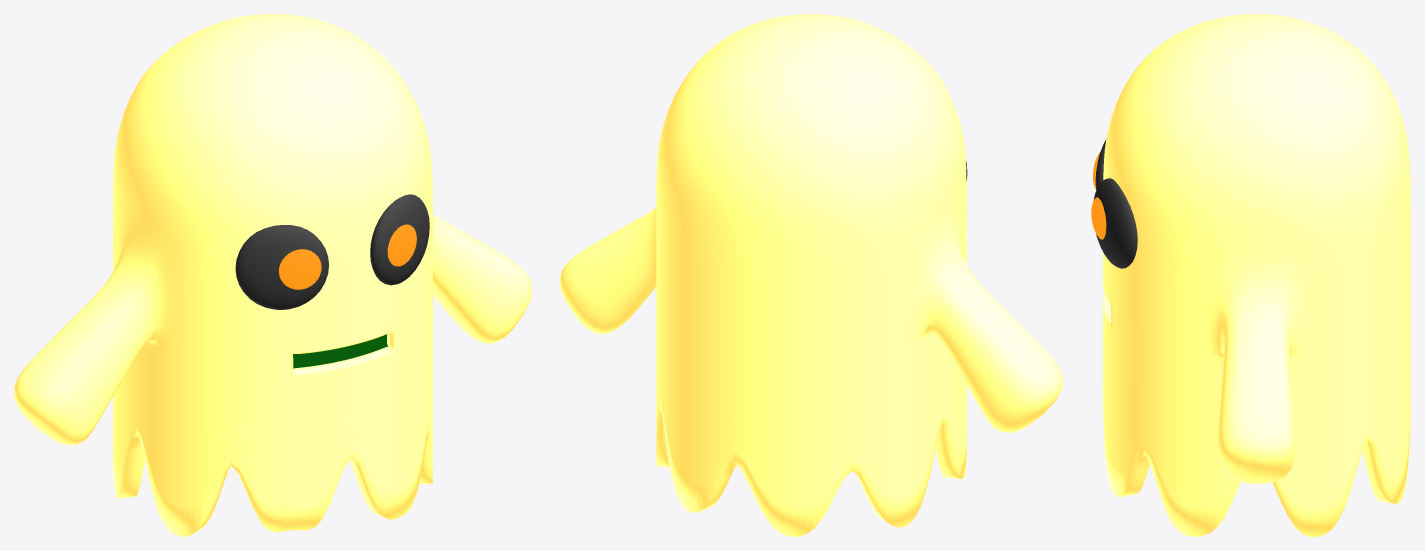
The model's file is ghost.fbx.
The picture shows the model from 3 angles, left to right: view 1: azimuth 30°, elevation 25°; view 2: azimuth 150°, elevation 25°; view 3: azimuth 270°, elevation 25°; orthographic projection. The views are drawn at different scales.
Visible parts, largest first — view 1: Object_4, Object_8, Object_10, Object_12, Object_6, Object_14; view 2: Object_4; view 3: Object_4, Object_10, Object_14.
Part boxes in pixels (x1,y1,x2,y2): Object_4: (14, 14, 531, 536); Object_8: (235, 225, 328, 309); Object_10: (370, 194, 429, 285); Object_12: (279, 249, 321, 289); Object_6: (293, 334, 387, 368); Object_14: (387, 224, 416, 266); Object_4: (560, 14, 1062, 536); Object_4: (1102, 14, 1410, 536); Object_10: (1093, 178, 1137, 268); Object_14: (1091, 197, 1106, 239).
Size of the model in its own units: 310 by 269 by 173.
